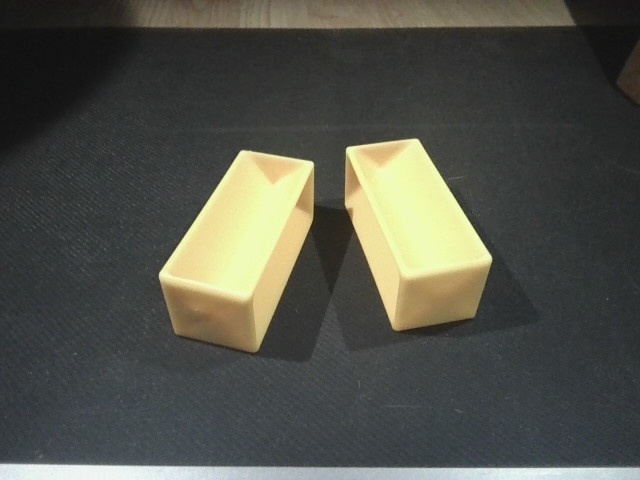YellowSample: (156, 145, 317, 358), (339, 135, 495, 333)
